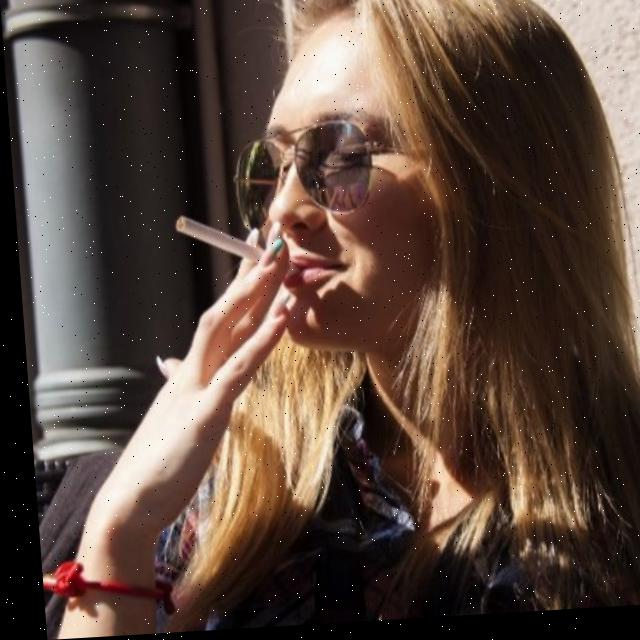cigarette: (171, 215, 261, 269)
